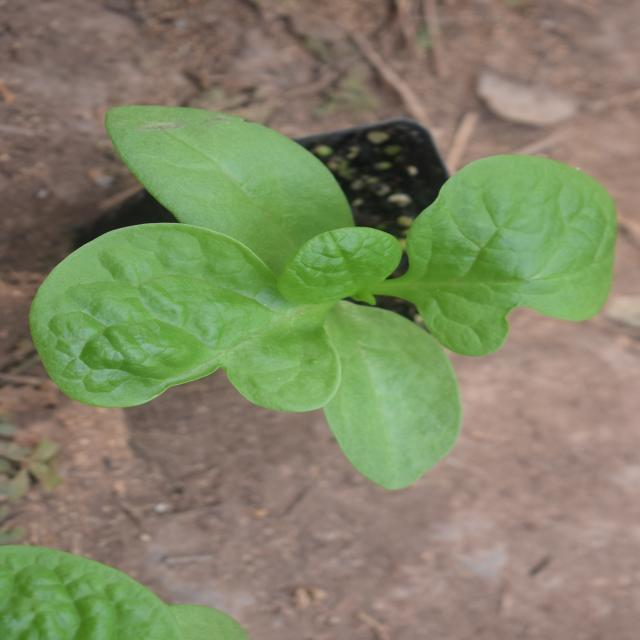Ceylon spinach: (145, 20, 463, 594)
